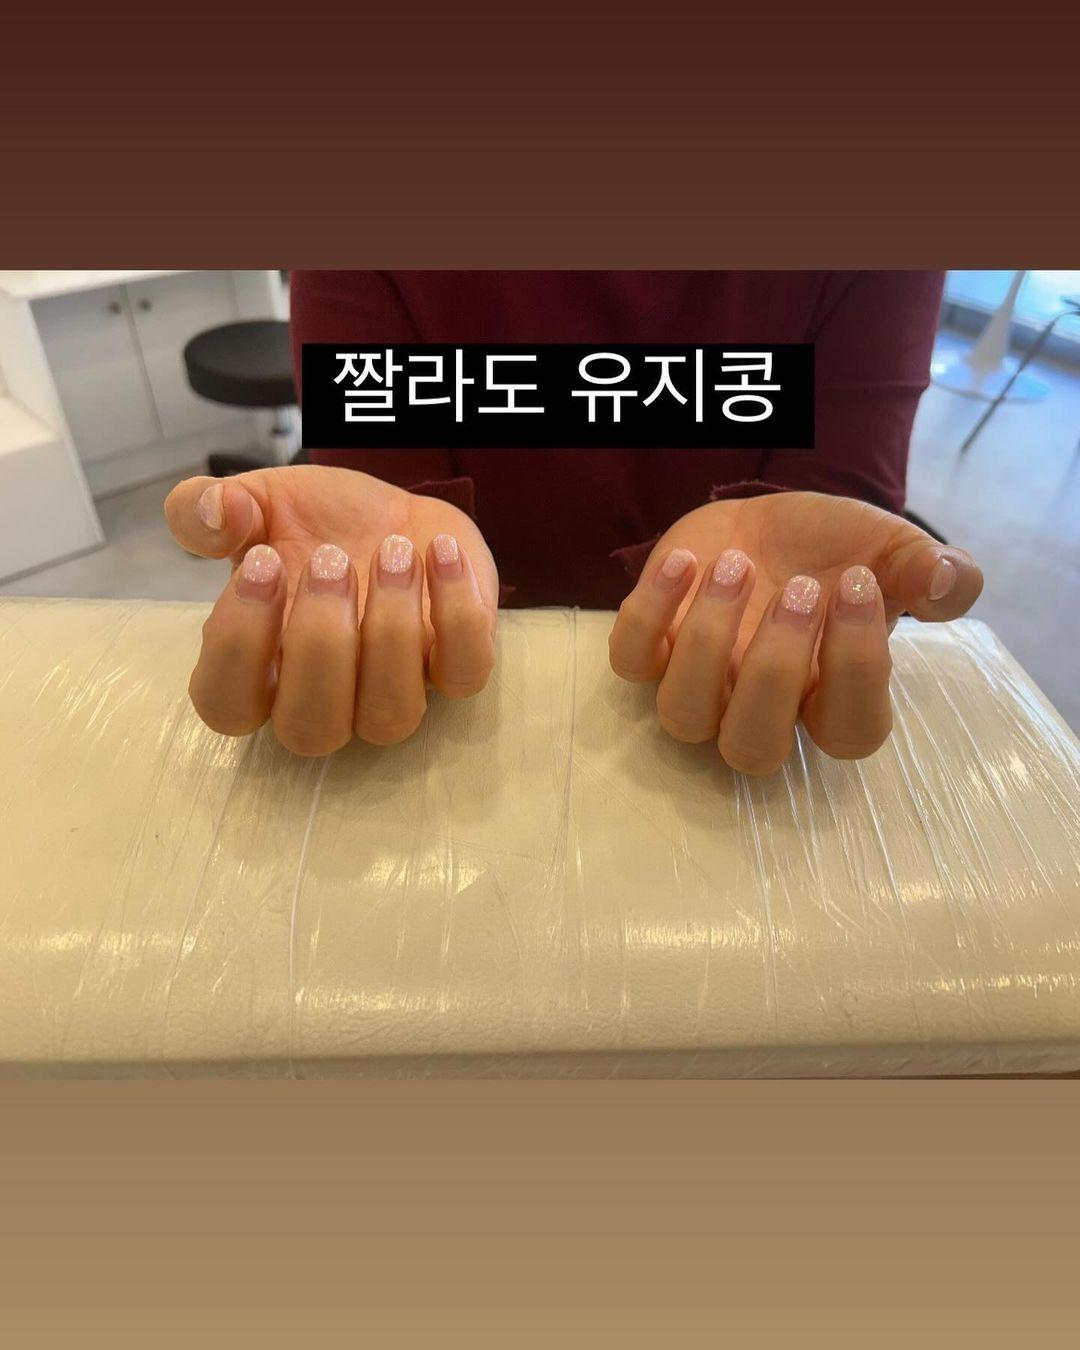nail: (234, 543, 282, 602), (307, 542, 349, 593), (779, 573, 820, 616), (838, 564, 877, 608), (710, 547, 750, 588), (195, 480, 227, 531), (656, 546, 695, 586), (377, 533, 413, 575), (924, 555, 955, 602), (430, 532, 460, 575)
